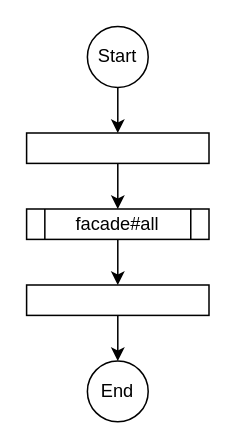
Image size: 236x448. Some labels were removed from this diagram. The box of each missing label's shape, as (x1, y1, x2, y2) in pixels:
controller#all: (25, 131, 209, 163)
send result: (25, 283, 209, 315)
